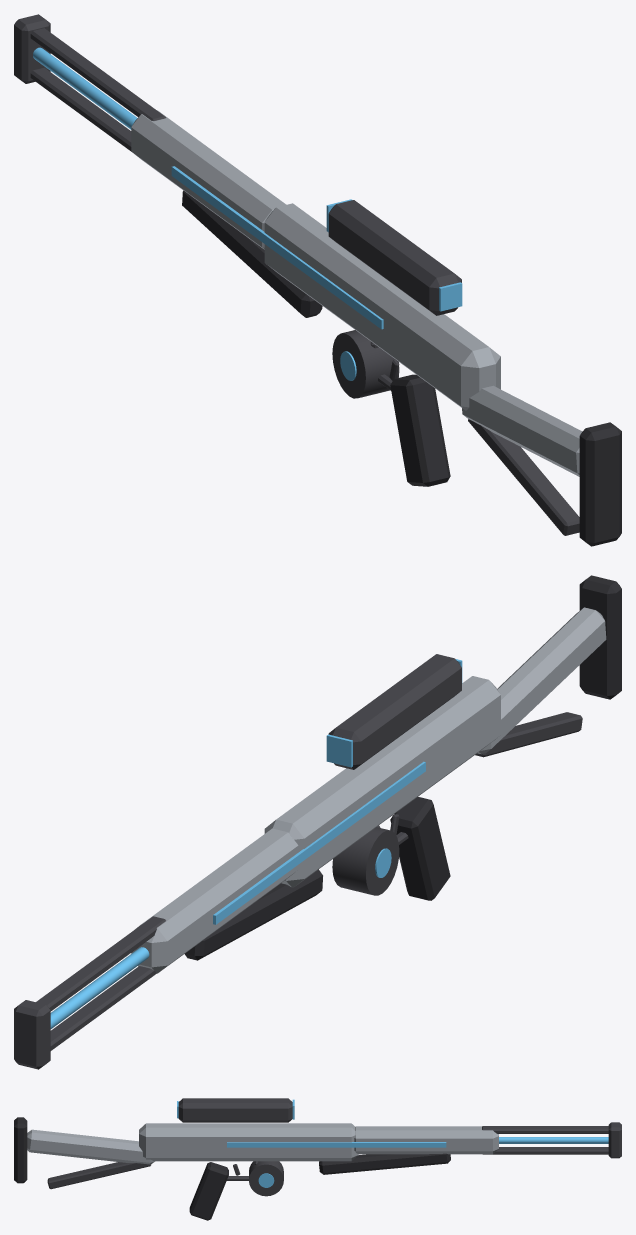
The model's file is Lumen.fbx.
The picture shows the model from 3 angles, top to bottom: view 1: azimuth 30°, elevation 25°; view 2: azimuth 150°, elevation 25°; view 3: azimuth 270°, elevation 25°; orthographic projection. The views are drawn at different scales.
Visible parts, largest first — view 1: Lumen; view 2: Lumen; view 3: Lumen.
Part boxes in pixels (x1,y1,x2,y2): Lumen: (14,14,621,546); Lumen: (14,575,621,1069); Lumen: (14,1098,621,1220).
Size of the model in its own units: 0.061 by 0.2959 by 1.38.
